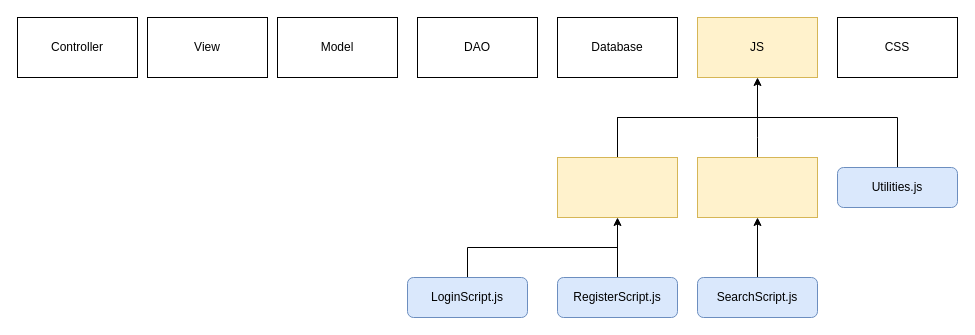
Image size: 975x335. Some labels were removed from this diagram. The shapes that lost their labels are listed below. From the top down, each one's centre as x and y in pixels, then its label:
At pixel 617 187: "Account".
At pixel 757 187: "CV".
